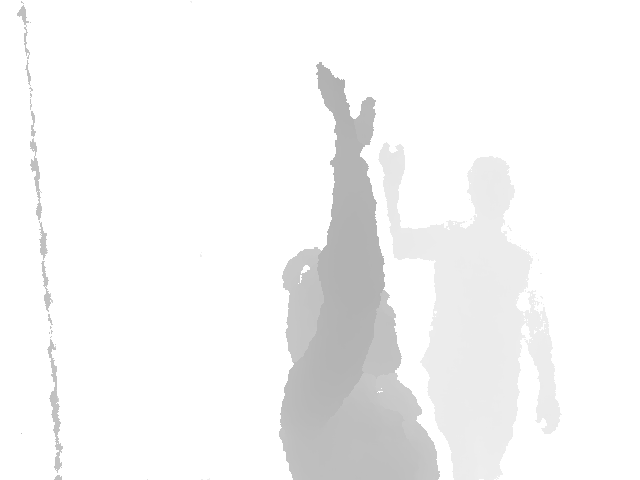hand: (316, 61, 376, 153), (377, 143, 406, 188)
head: (282, 247, 403, 378), (464, 156, 517, 222)
person: (277, 61, 443, 479), (377, 143, 561, 480)
